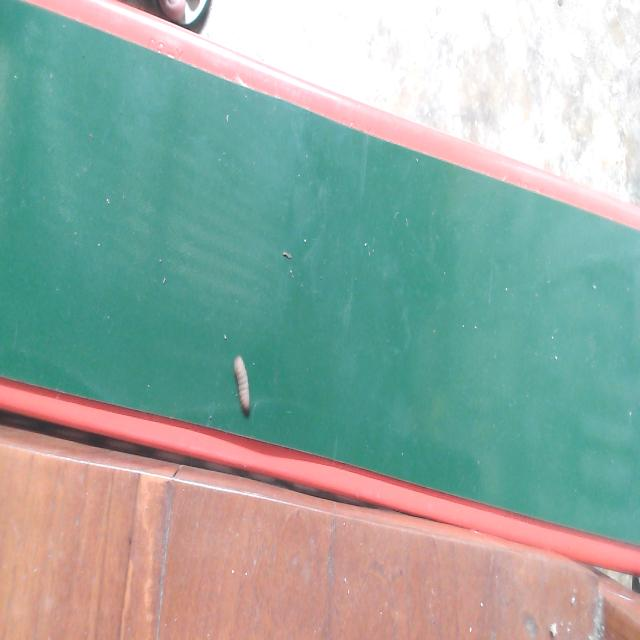Maggot: (232, 357, 253, 417)
